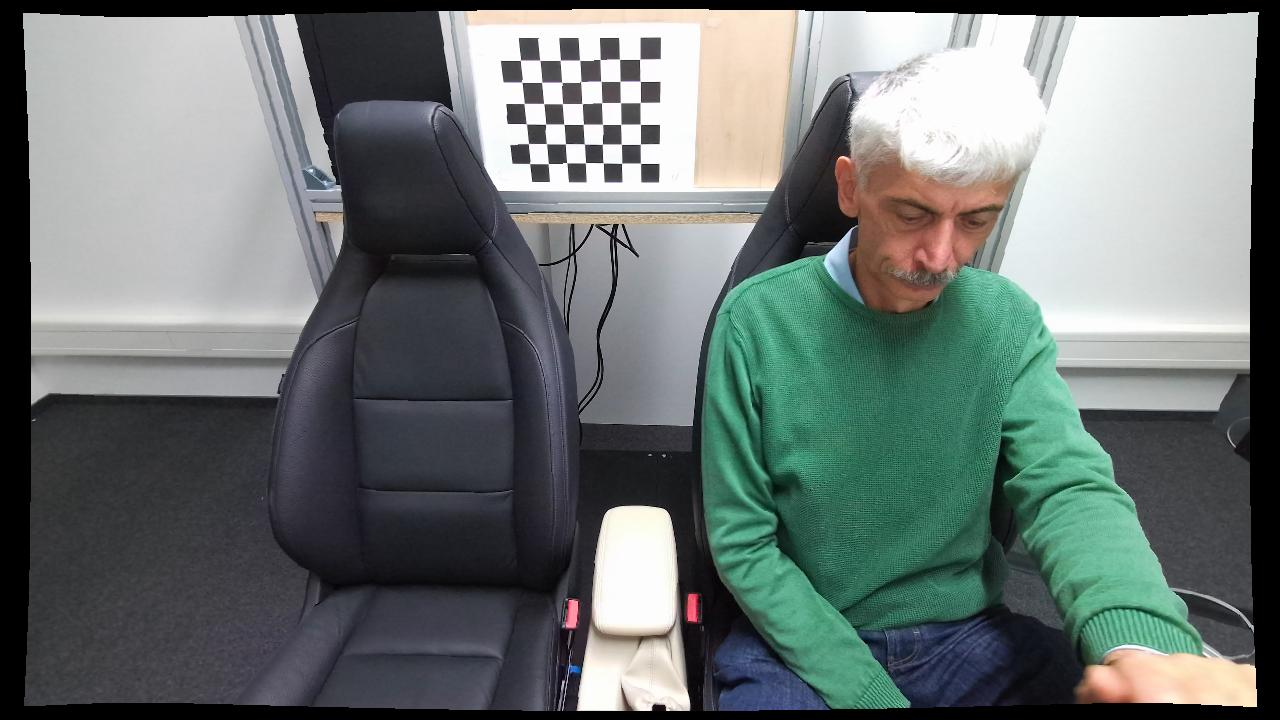Distracted: (701, 45, 1185, 714)
